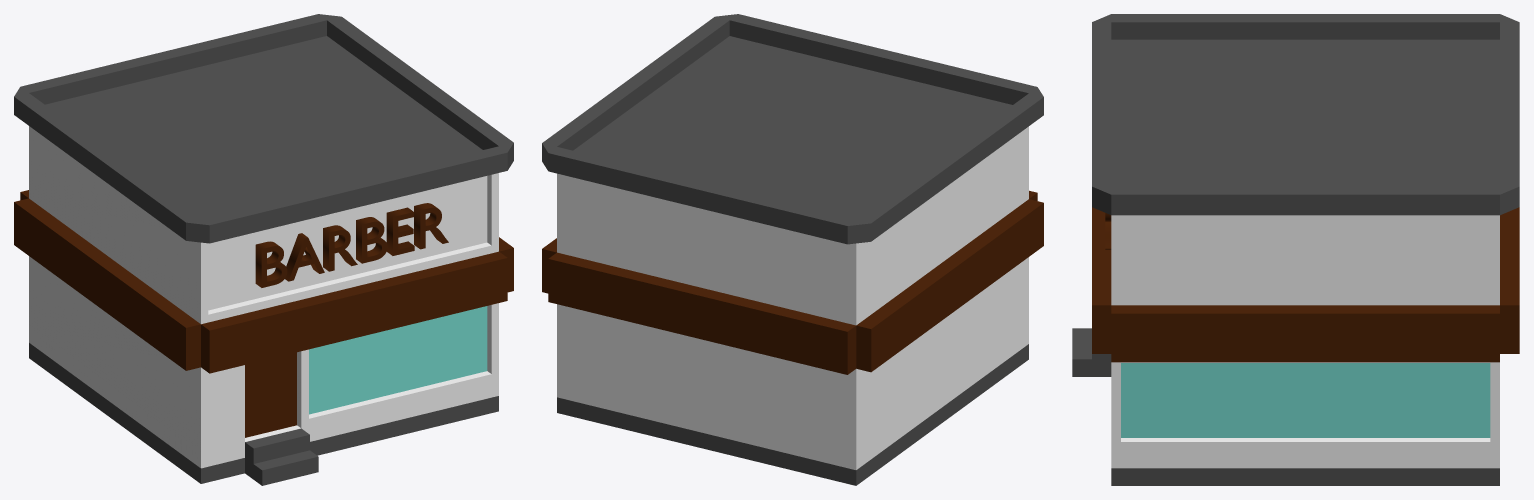
File: barber.fbx
3 renders of one model, left to right at view 1: azimuth 30°, elevation 25°; view 2: azimuth 150°, elevation 25°; view 3: azimuth 270°, elevation 25°, orthographic. The views are drawn at different scales.
Parts seen in each view (by area): view 1: Cube.002, Text; view 2: Cube.002; view 3: Cube.002.
Boxes of the visible parts, x1=… form: Cube.002: x1=14, y1=14, x2=513, y2=485; Text: x1=255, y1=203, x2=448, y2=287; Cube.002: x1=542, y1=14, x2=1043, y2=485; Cube.002: x1=1072, y1=14, x2=1519, y2=485.
Size of the model in its own units: 2200 by 1700 by 2300.
